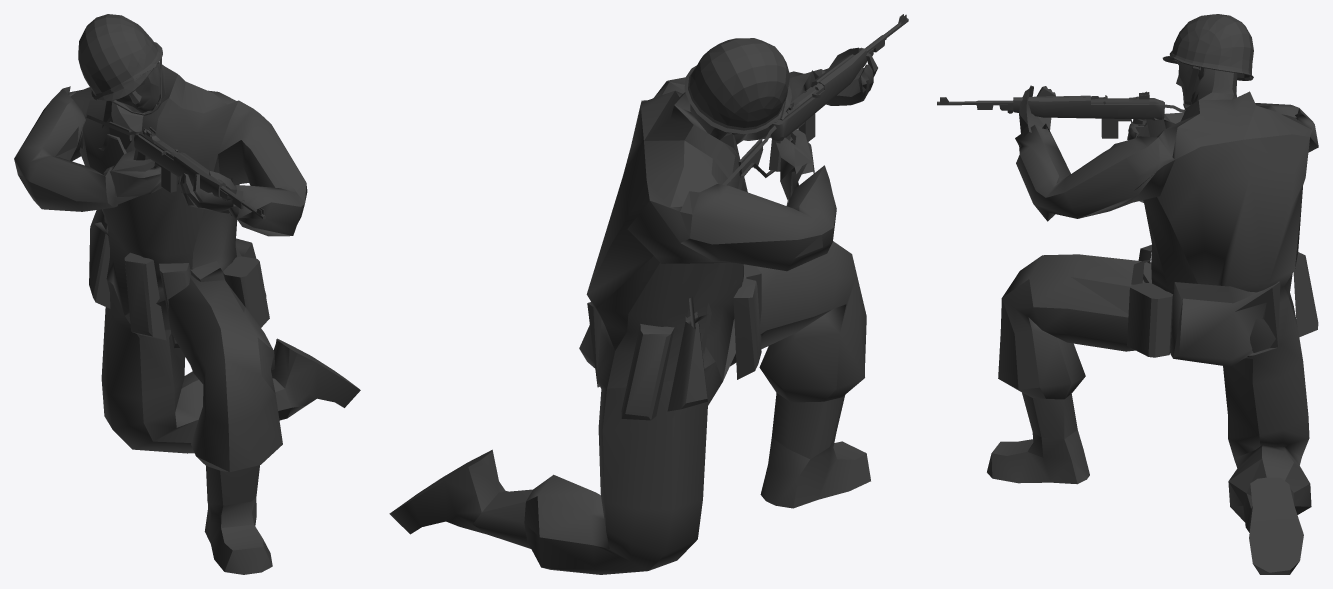
Rendered from us_carabina_acc.glb.
3 views of the same model, side by side, from view 1: azimuth 30°, elevation 25°; view 2: azimuth 150°, elevation 25°; view 3: azimuth 270°, elevation 25° (orthographic). The views are drawn at different scales.
Parts seen in each view (by area): view 1: Object.004_Object.017_2; view 2: Object.004_Object.017_2; view 3: Object.004_Object.017_2.
Part boxes in pixels (x1,y1,x2,y2): Object.004_Object.017_2: [14, 14, 360, 574]; Object.004_Object.017_2: [389, 14, 908, 574]; Object.004_Object.017_2: [937, 14, 1318, 574].
Size of the model in its own units: 0.2949 by 0.3802 by 0.2909.
Materials: 1 (1 with a texture image).
